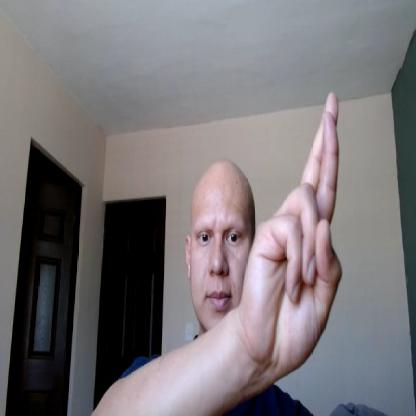R: (248, 90, 343, 375)
